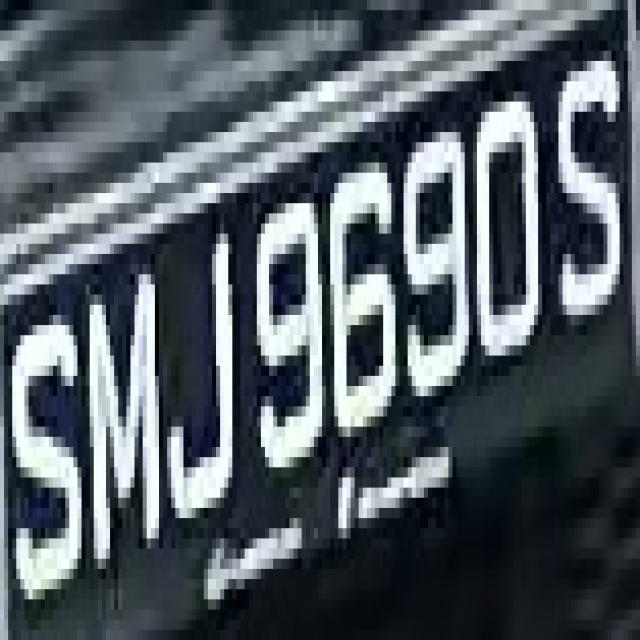0: (461, 61, 550, 406)
6: (322, 132, 408, 488)
9: (236, 193, 334, 518), (400, 101, 481, 416)
J: (179, 183, 249, 559)
M: (86, 254, 171, 579)
S: (542, 21, 628, 356), (8, 274, 86, 620)
